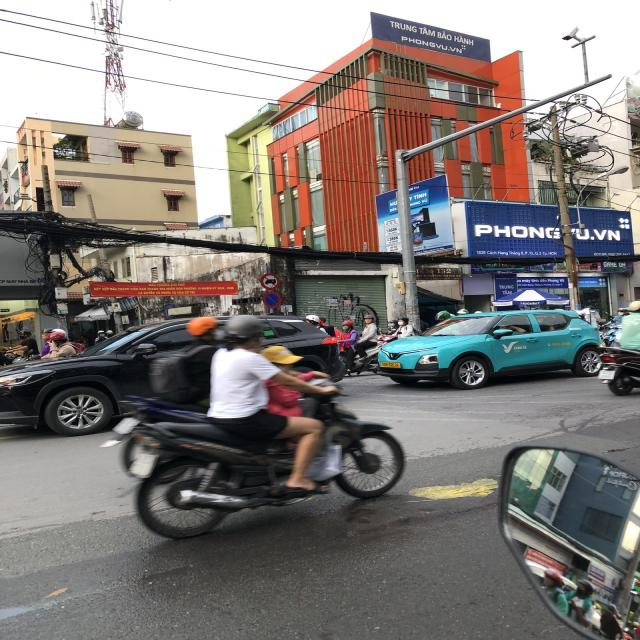Bien bao cam do xe: (261, 290, 283, 308)
Bien bao cam xe oto tai: (257, 271, 282, 290)
